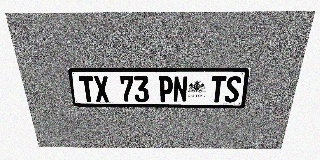3: (134, 76, 149, 102)
7: (119, 76, 134, 102)
N: (173, 76, 188, 102)
P: (159, 76, 173, 102)
S: (224, 76, 242, 102)
T: (78, 76, 96, 102), (210, 76, 227, 102)
X: (93, 76, 110, 102)
